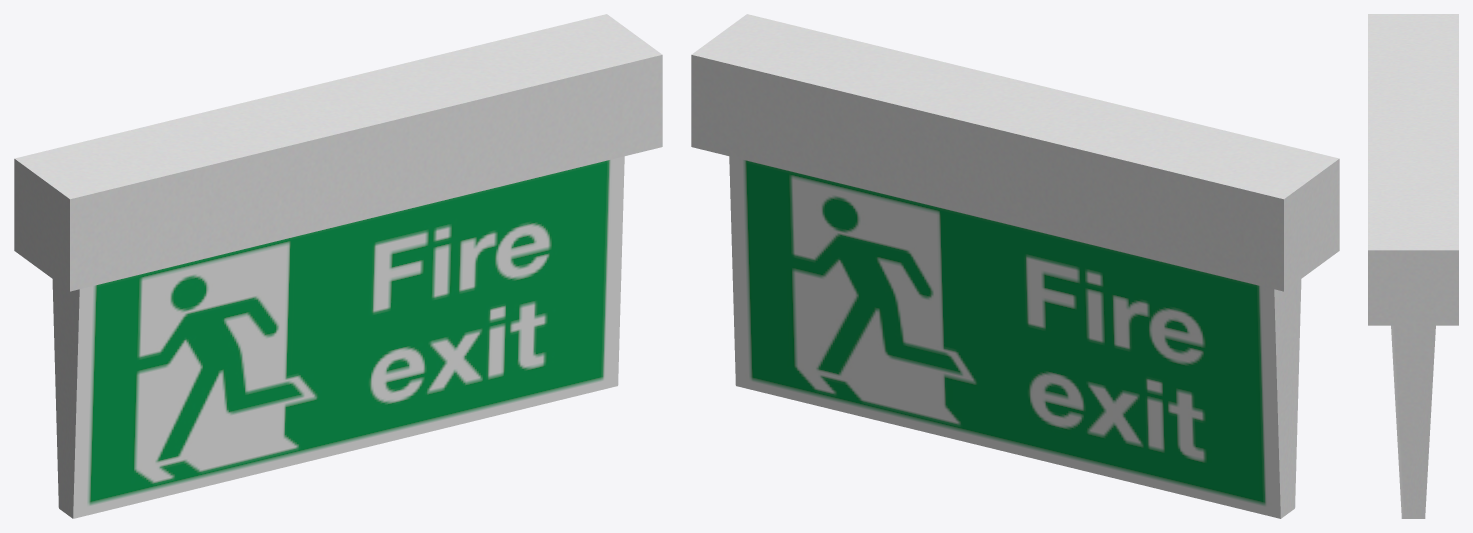
The model's file is FireExitSign.FBX.
The picture shows the model from 3 angles, left to right: view 1: azimuth 30°, elevation 25°; view 2: azimuth 150°, elevation 25°; view 3: azimuth 270°, elevation 25°; orthographic projection. The views are drawn at different scales.
Parts seen in each view (by area): view 1: FireExitSign; view 2: FireExitSign; view 3: FireExitSign.
Part boxes in pixels (x1,y1,x2,y2): FireExitSign: (14,14,662,518); FireExitSign: (691,14,1339,518); FireExitSign: (1368,14,1458,518).
Bounding box in the file's own units: 37.75 × 20.74 × 6.14.
1 material, 1 textured.
